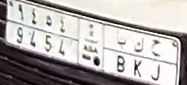4: (57, 16, 68, 56), (29, 7, 39, 49)
5: (43, 14, 54, 53)
9: (15, 4, 25, 45)
B: (116, 38, 129, 73)
J: (150, 39, 163, 82)
K: (133, 36, 146, 78)
